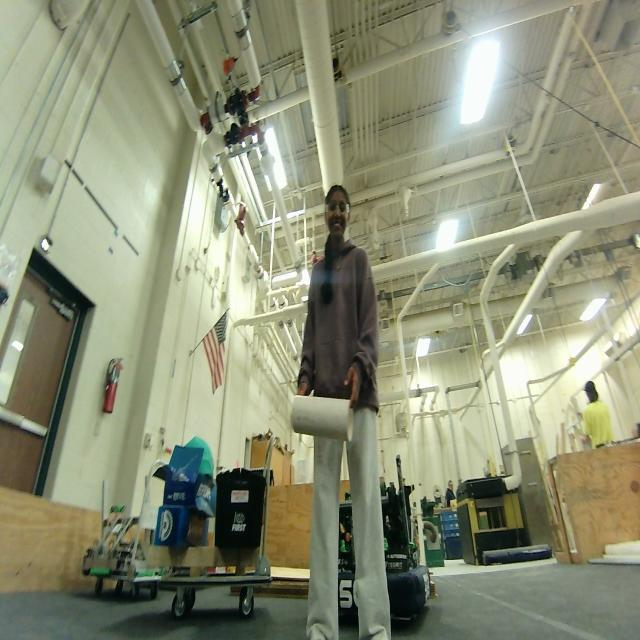coral: (291, 395, 354, 442)
